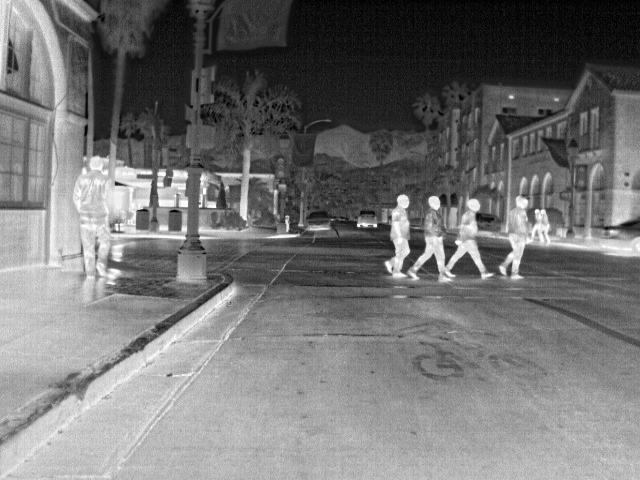car: (604, 216, 639, 256), (305, 210, 336, 232), (354, 208, 381, 231)
person: (75, 155, 116, 281), (444, 199, 497, 279), (408, 192, 454, 282), (496, 193, 534, 279), (381, 193, 413, 280), (533, 207, 547, 243), (541, 206, 554, 243)
